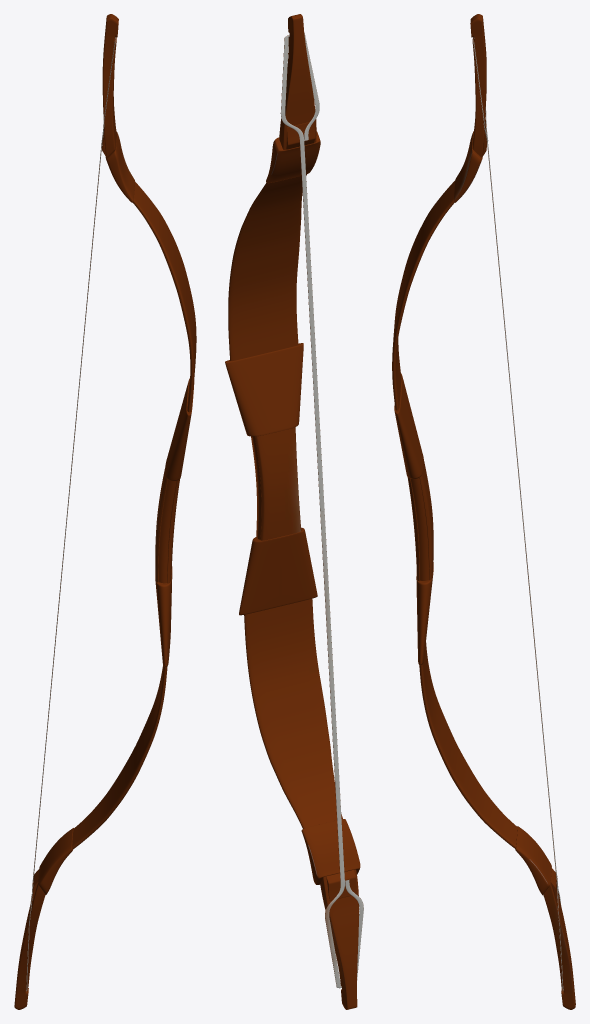
File: Bow.obj
3 views of the same model, side by side, from view 1: azimuth 90°, elevation 25°; view 2: azimuth 210°, elevation 25°; view 3: azimuth 270°, elevation 25° (orthographic). The views are drawn at different scales.
Parts seen in each view (by area): view 1: Bow; view 2: Bow; view 3: Bow.
Part boxes in pixels (<box>): Bow: <box>14,14,196,1009</box>; Bow: <box>225,14,363,1009</box>; Bow: <box>392,14,575,1009</box>.
Bounding box in the file's own units: 0.2788 × 3.24 × 0.5409.
Materials: 1 (1 with a texture image).
